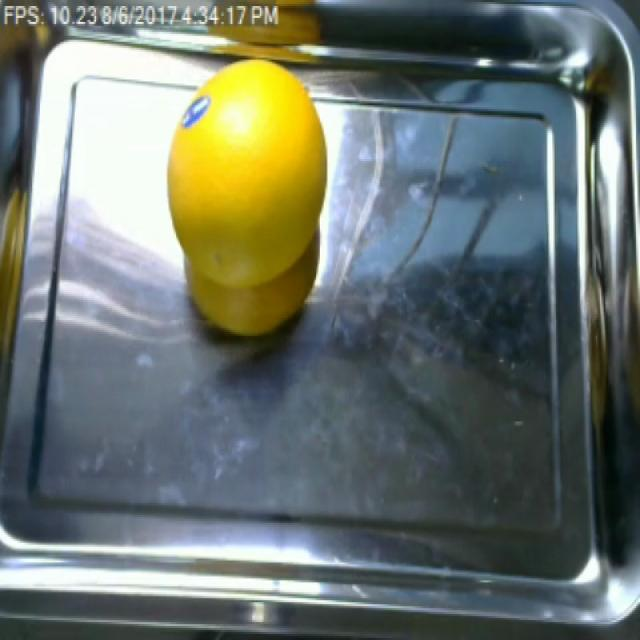Fruit: (156, 54, 335, 346)
